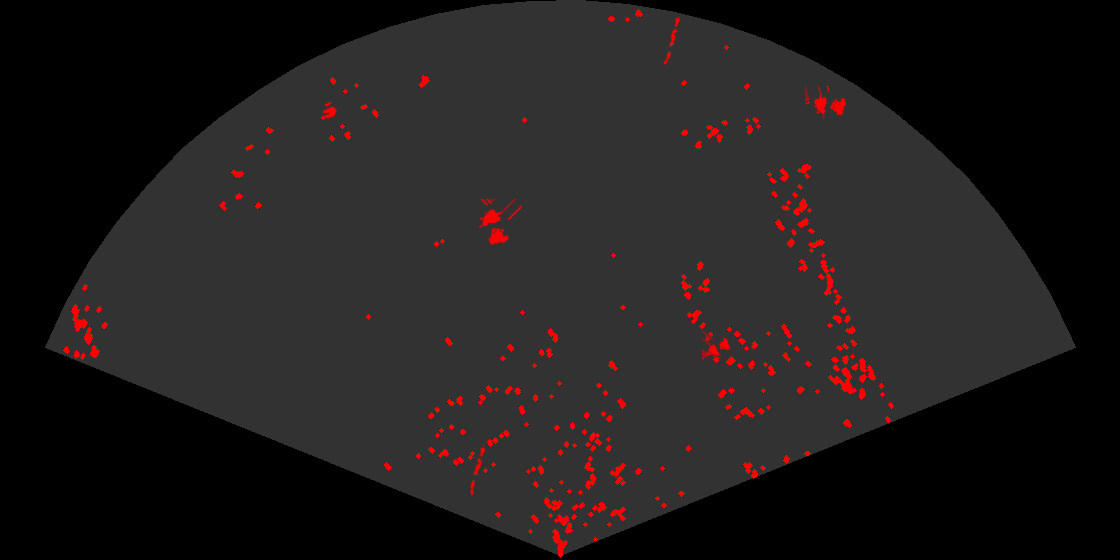ball: (321, 100, 338, 121)
cage: (477, 199, 522, 247), (805, 86, 848, 119), (702, 329, 732, 362)
chain: (662, 16, 682, 67), (468, 443, 487, 496)
